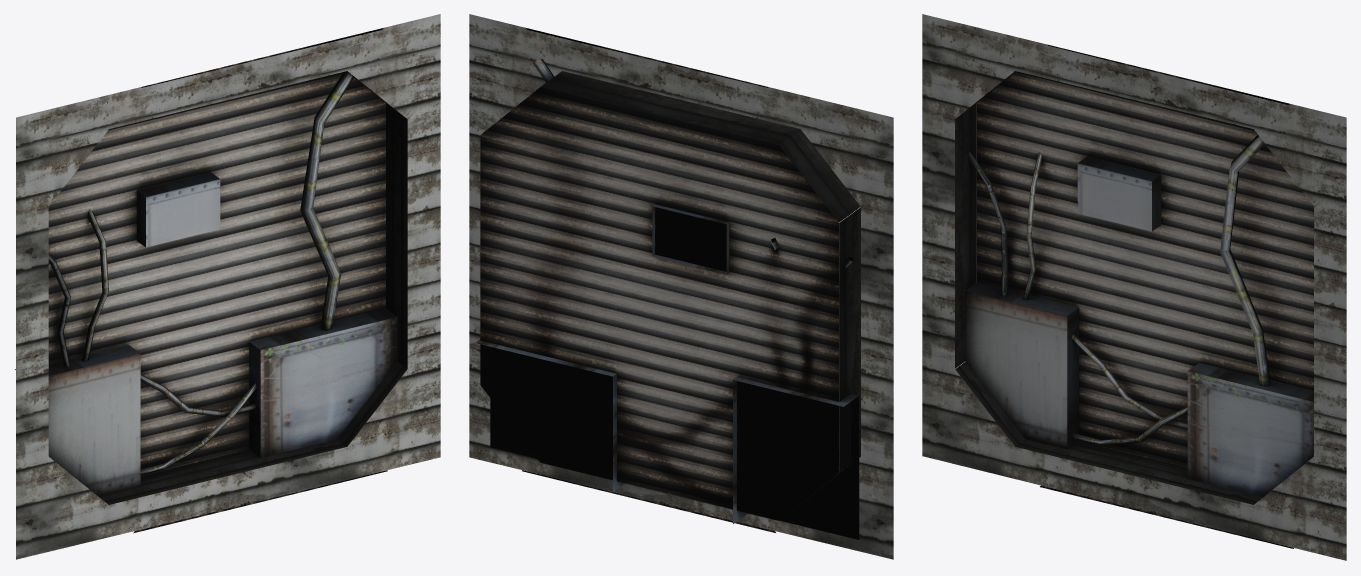
Rendered from Wall03.fbx.
3 renders of one model, left to right at view 1: azimuth 30°, elevation 25°; view 2: azimuth 150°, elevation 25°; view 3: azimuth 330°, elevation 25°, orthographic.
Visible parts, largest first — view 1: Plane.195; view 2: Plane.195; view 3: Plane.195.
Boxes of the visible parts, x1=… form: Plane.195: x1=15, y1=14, x2=440, y2=559; Plane.195: x1=469, y1=14, x2=893, y2=559; Plane.195: x1=922, y1=14, x2=1346, y2=560.
Size of the model in its own units: 200 by 200 by 21.74.
